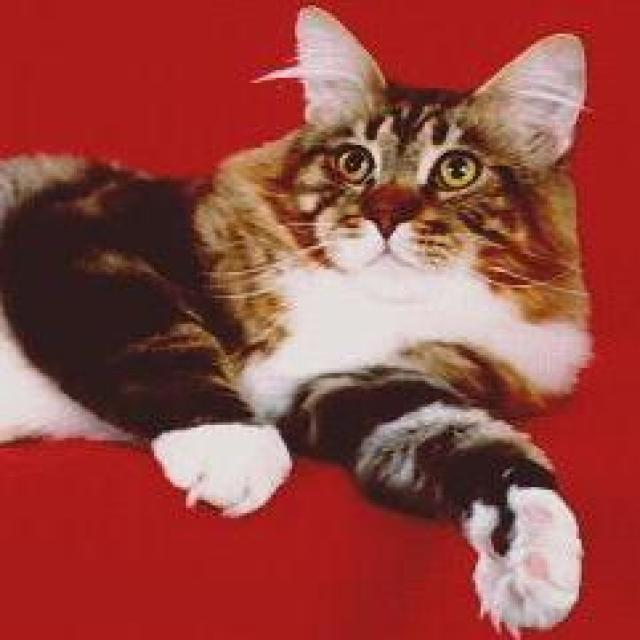Maine_Coon: (222, 0, 585, 328)
